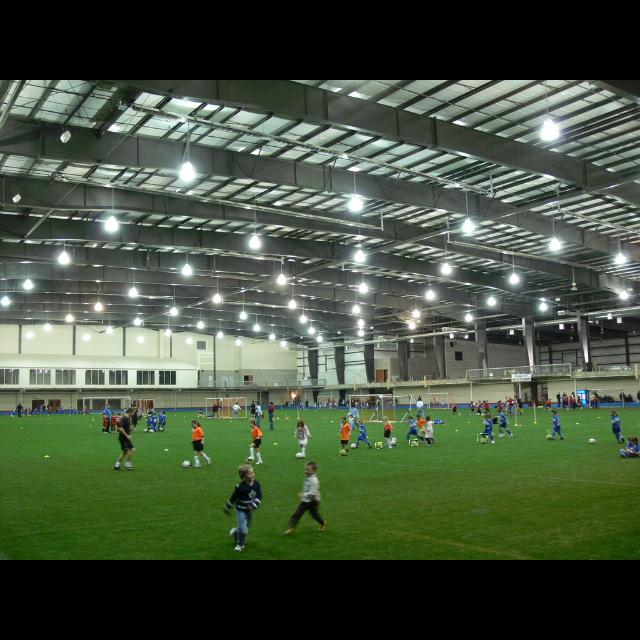Football: (478, 434, 488, 442), (339, 448, 347, 456), (388, 438, 396, 446), (184, 460, 192, 466), (410, 440, 418, 446), (376, 443, 382, 449), (350, 441, 354, 445)
